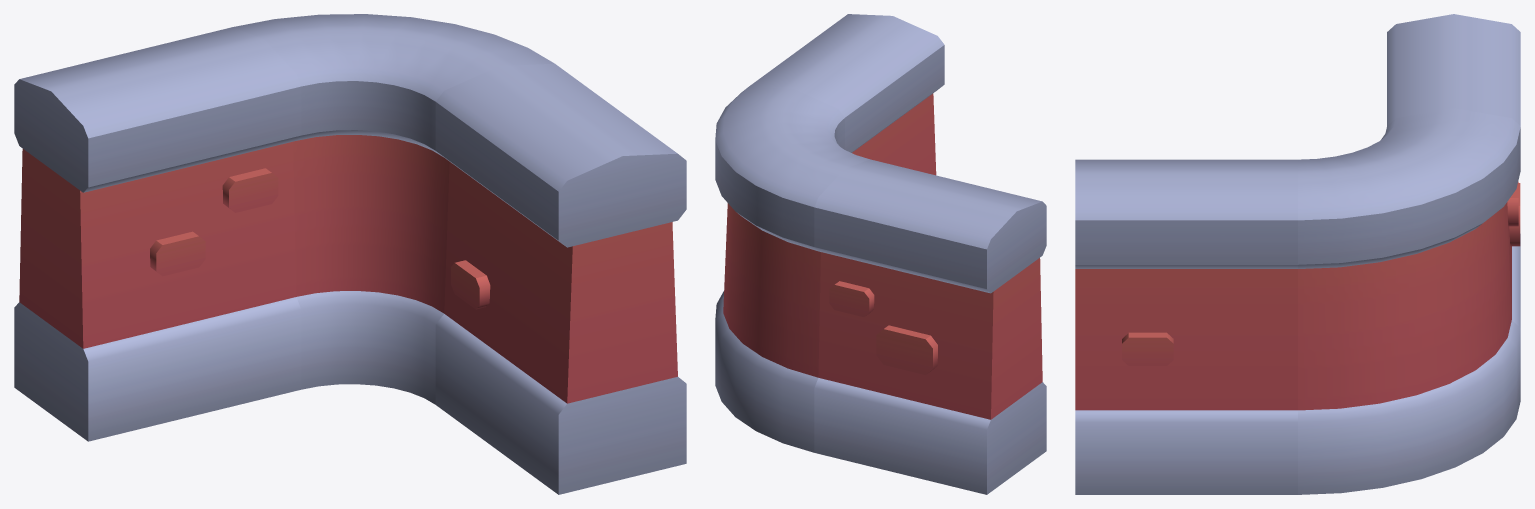
File: kenney-graveyard-brick-wall-curve-small.glb
3 views of the same model, side by side, from view 1: azimuth 30°, elevation 25°; view 2: azimuth 150°, elevation 25°; view 3: azimuth 270°, elevation 25° (orthographic). The views are drawn at different scales.
Parts seen in each view (by area): view 1: brick-wall-curve-small; view 2: brick-wall-curve-small; view 3: brick-wall-curve-small.
Boxes of the visible parts, x1,y1,x2,y2 form: brick-wall-curve-small: (14,14,686,494); brick-wall-curve-small: (715,14,1046,494); brick-wall-curve-small: (1075,14,1520,494).
Size of the model in its own units: 1 by 0.7249 by 1.
1 material, 1 textured.
